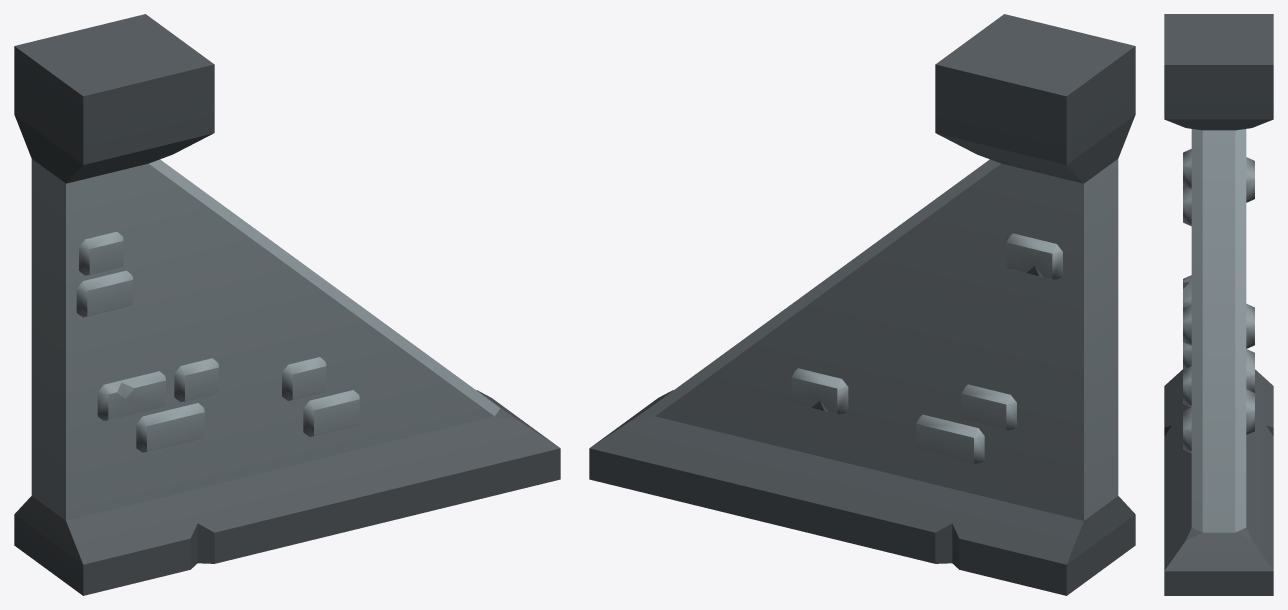
Rendered from wall_sloped.gltf.
3 views of the same model, side by side, from view 1: azimuth 30°, elevation 25°; view 2: azimuth 150°, elevation 25°; view 3: azimuth 270°, elevation 25° (orthographic). The views are drawn at different scales.
Parts seen in each view (by area): view 1: wall_sloped; view 2: wall_sloped; view 3: wall_sloped.
Part boxes in pixels (box(x1,y1,x2,y2)): wall_sloped: box(14, 14, 560, 595); wall_sloped: box(589, 14, 1135, 595); wall_sloped: box(1164, 14, 1273, 595).
Size of the model in its own units: 4 by 4 by 1.
Materials: 1 (1 with a texture image).
